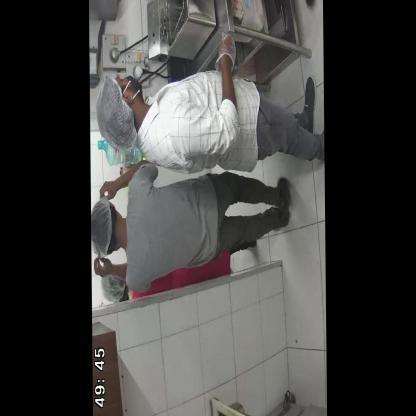no_apron: (138, 76, 257, 159)
